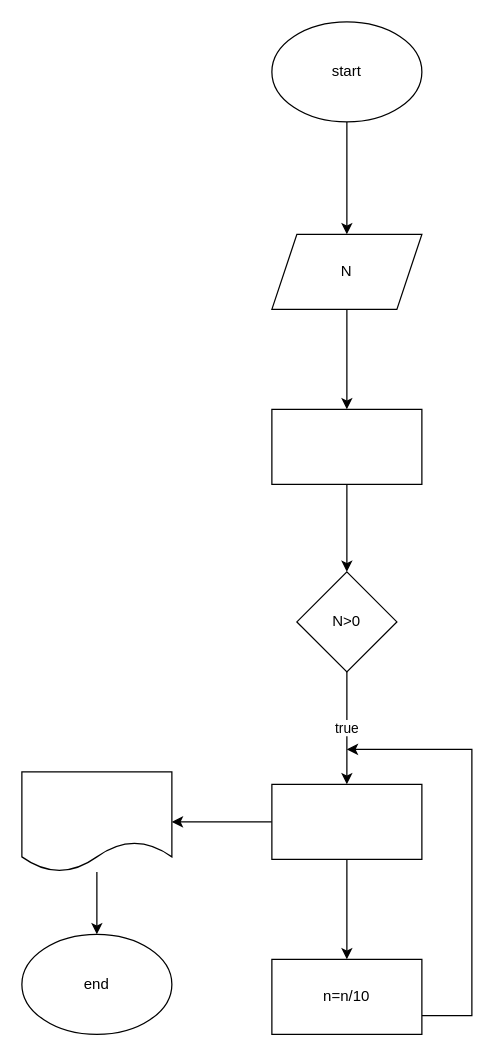
Image size: 504x1056. Some labels were removed from this diagram. The centre of each missing label's shape, as x and y in pixels:
"sum" goes at pixel 96 821.
"sum+=n%10" goes at pixel 346 821.
"sum=0" goes at pixel 346 446.
